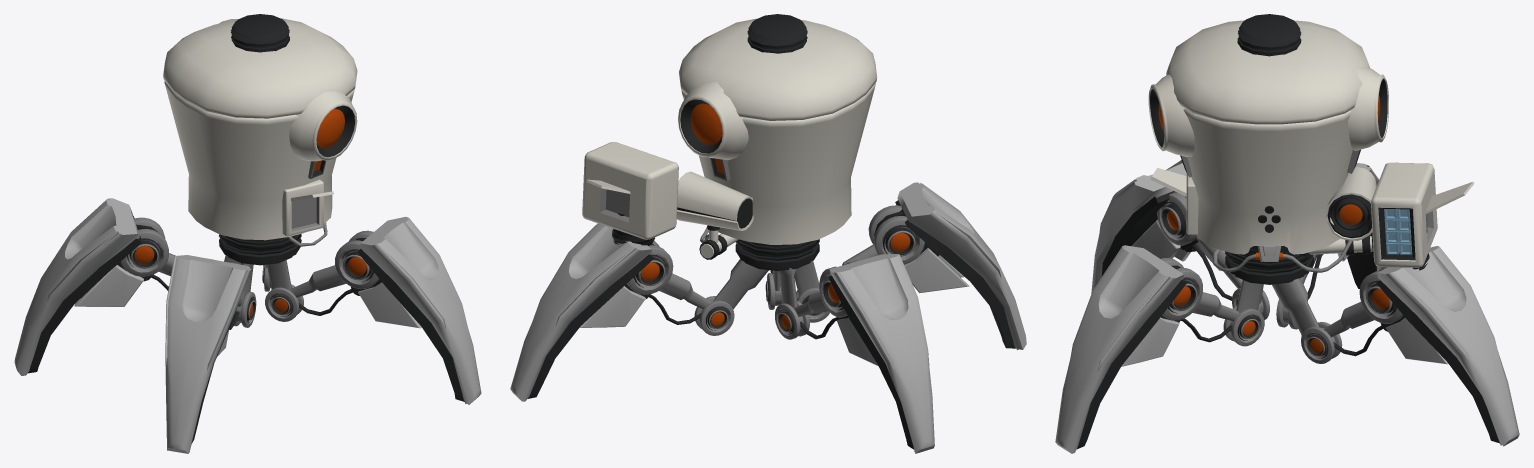
File: robot.fbx
3 views of the same model, side by side, from view 1: azimuth 30°, elevation 25°; view 2: azimuth 150°, elevation 25°; view 3: azimuth 270°, elevation 25° (orthographic). The views are drawn at different scales.
Parts seen in each view (by area): view 1: pCylinder57; view 2: pCylinder57; view 3: pCylinder57.
Boxes of the visible parts, x1,y1,x2,y2 form: pCylinder57: (14,14,481,453); pCylinder57: (510,14,1026,453); pCylinder57: (1055,14,1519,453).
Bounding box in the file's own units: 9.7 × 10.35 × 8.93.
